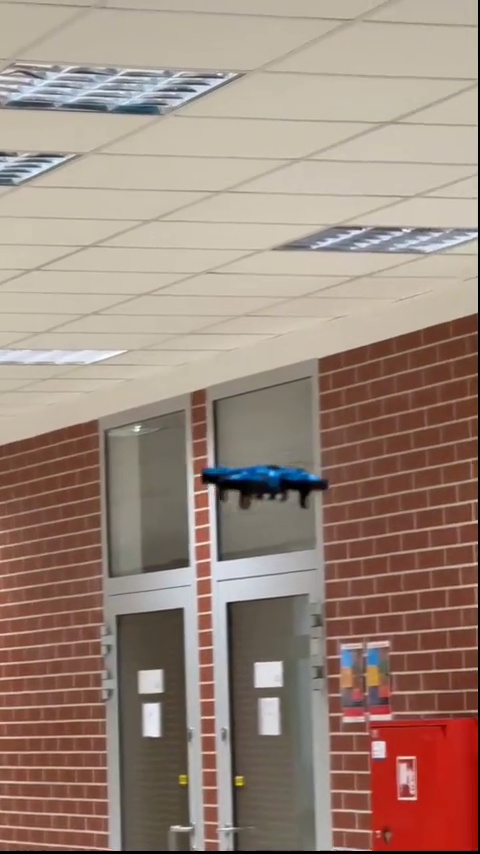drone: (203, 460, 326, 512)
